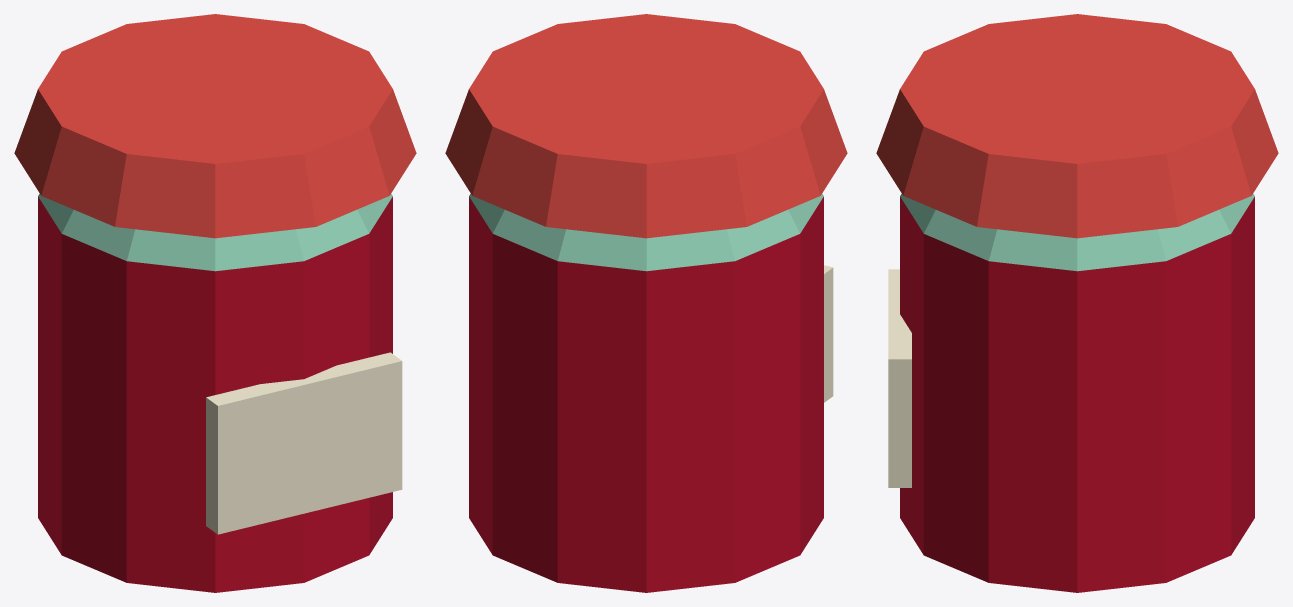
The model's file is jam_strawberry.obj.
3 renders of one model, left to right at view 1: azimuth 30°, elevation 25°; view 2: azimuth 150°, elevation 25°; view 3: azimuth 270°, elevation 25°, orthographic.
Parts seen in each view (by area): view 1: item; view 2: item; view 3: item.
Boxes of the visible parts, box(x1,y1,x2,y2) form: item: box(14, 14, 416, 592); item: box(445, 14, 847, 592); item: box(876, 14, 1278, 592).
Bounding box in the file's own units: 0.34 × 0.4 × 0.34.
